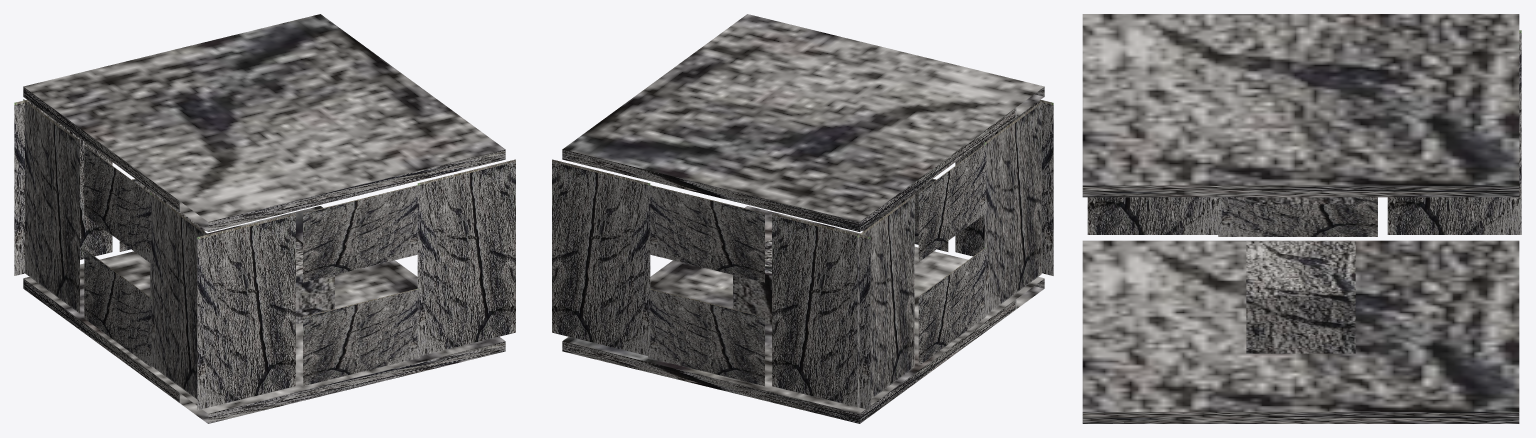
File: cell3.1.obj
3 renders of one model, left to right at view 1: azimuth 30°, elevation 25°; view 2: azimuth 150°, elevation 25°; view 3: azimuth 270°, elevation 25°, orthographic. The views are drawn at different scales.
Parts seen in each view (by area): view 1: floor.001_Cube.004, Plane.013_Plane.014, Plane.012_Plane.013, floor_Cube, Plane.003, Plane.004, Plane.002_Plane.011, Plane.011_Plane.012, Plane.005, Plane.006, Plane.014_Plane.015, Cube_Cube.001; view 2: floor.001_Cube.004, Plane.015_Plane.016, Plane.014_Plane.015, floor_Cube, Plane.004, Plane.003, Plane.016_Plane.017, Plane.017_Plane.018, Plane.005, Plane.006, Plane.013_Plane.014, Cube_Cube.001 (+1 smaller); view 3: floor.001_Cube.004, floor_Cube, Cube_Cube.001, Plane.003, Plane.006, Plane.004, Cube.001_Cube.002.
Boxes of the visible parts, x1,y1,x2,y2 form: floor.001_Cube.004: (23,14,505,231); Plane.013_Plane.014: (197,213,295,410); Plane.012_Plane.013: (417,159,515,356); floor_Cube: (23,206,505,423); Plane.003: (23,99,79,313); Plane.004: (150,192,207,398); Plane.002_Plane.011: (303,288,419,386); Plane.011_Plane.012: (303,185,419,282); Plane.005: (84,145,151,263); Plane.006: (84,249,151,367); Plane.014_Plane.015: (14,100,112,275); Cube_Cube.001: (296,238,334,324); floor.001_Cube.004: (562,14,1044,231); Plane.015_Plane.016: (552,159,650,356); Plane.014_Plane.015: (772,213,870,410); floor_Cube: (562,206,1044,423); Plane.004: (984,101,1041,315); Plane.003: (857,194,914,408); Plane.016_Plane.017: (648,185,764,282); Plane.017_Plane.018: (648,289,764,386); Plane.005: (918,143,986,261); Plane.006: (918,247,986,365); Plane.013_Plane.014: (955,100,1053,275); Cube_Cube.001: (733,238,771,324); floor.001_Cube.004: (1082,14,1519,197); floor_Cube: (1082,240,1519,423); Cube_Cube.001: (1246,241,1355,353); Plane.003: (1387,30,1521,234); Plane.006: (1218,197,1377,236); Plane.004: (1087,197,1221,234); Cube.001_Cube.002: (1246,197,1355,204).
Size of the model in its own units: 13.01 by 7.79 by 13.01.
